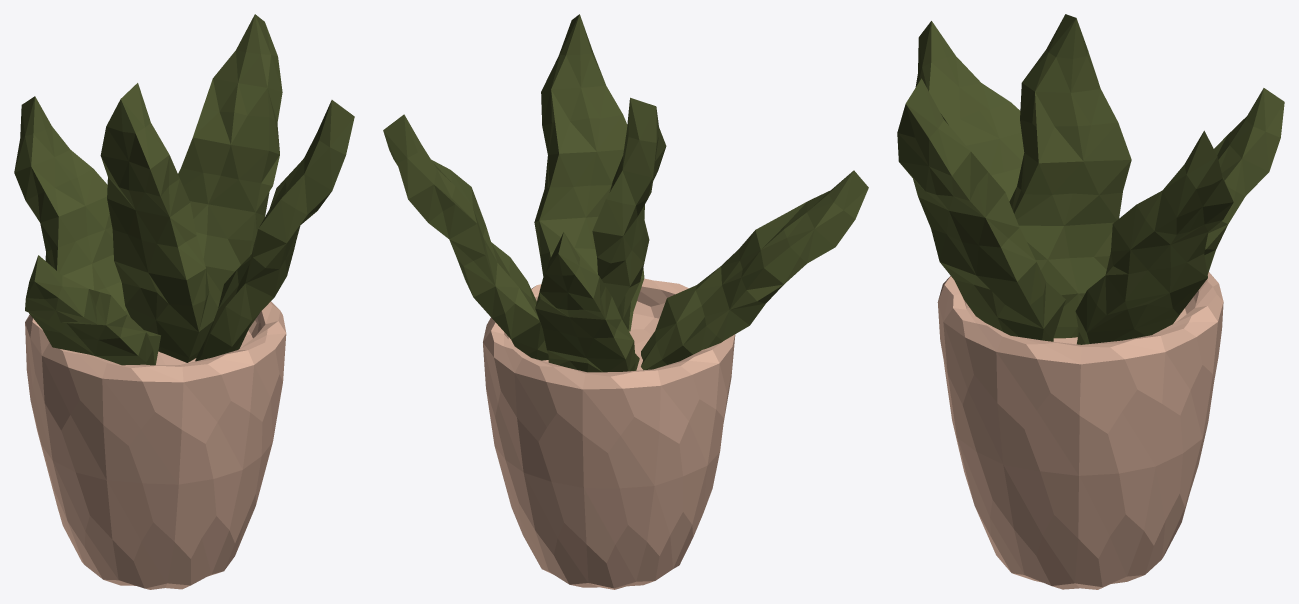
File: livingroom_plant.fbx
3 views of the same model, side by side, from view 1: azimuth 30°, elevation 25°; view 2: azimuth 150°, elevation 25°; view 3: azimuth 270°, elevation 25° (orthographic). The views are drawn at different scales.
Parts seen in each view (by area): view 1: livingroom_pottedplant; view 2: livingroom_pottedplant; view 3: livingroom_pottedplant.
Part boxes in pixels (x1,y1,x2,y2): livingroom_pottedplant: [14, 14, 354, 589]; livingroom_pottedplant: [383, 14, 868, 589]; livingroom_pottedplant: [897, 14, 1284, 589].
Size of the model in its own units: 61.45 by 79.04 by 50.95.
